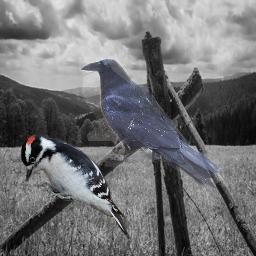Crow: (79, 57, 221, 191)
Woodpecker: (19, 133, 134, 242)
